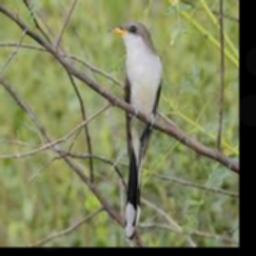Cuckoo: (107, 22, 163, 239)
